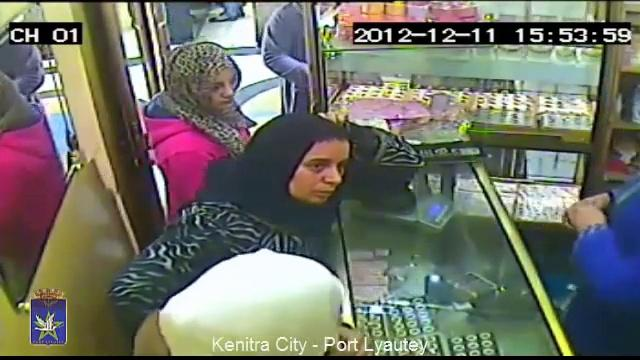Customer-Bagpack: (334, 107, 418, 184)
Regular: (504, 65, 640, 344), (135, 229, 351, 360), (130, 23, 242, 172), (213, 91, 344, 213)
